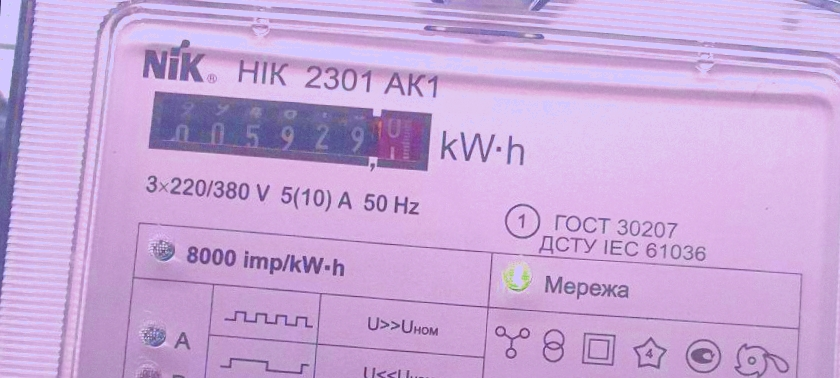0: (207, 118, 227, 147), (170, 118, 192, 142), (384, 115, 404, 140)
2: (311, 119, 332, 153)
5: (242, 120, 261, 149)
9: (275, 121, 297, 152), (347, 122, 367, 155), (177, 99, 196, 118)
screen: (141, 85, 440, 180)
